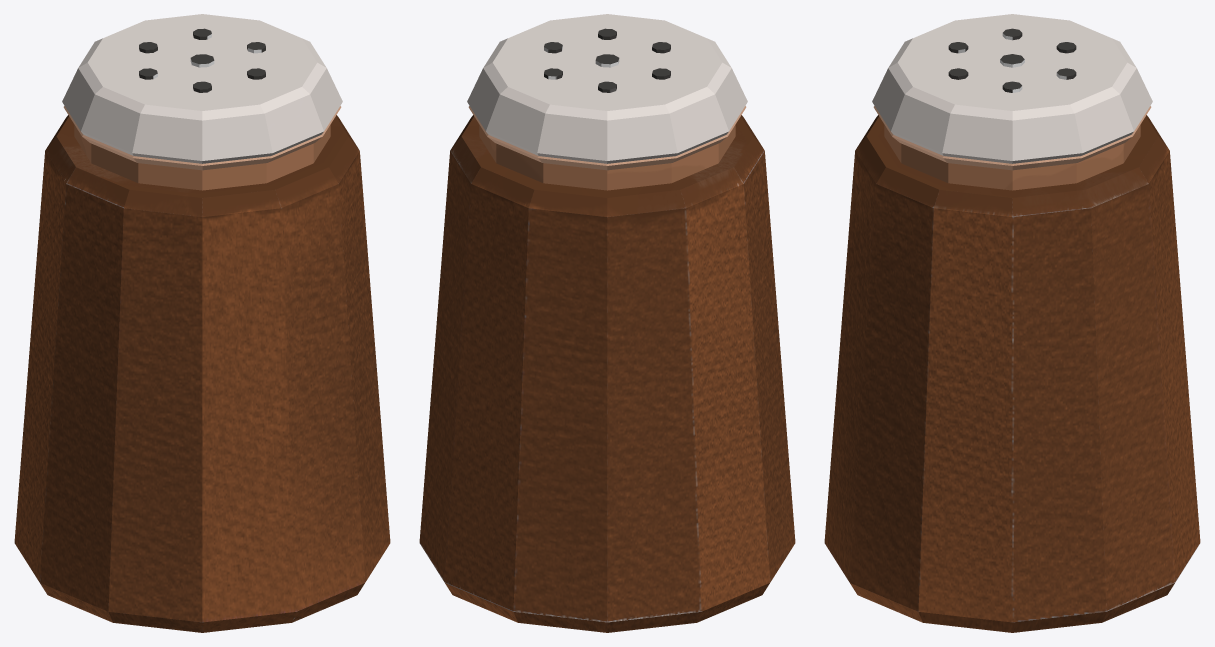
Rendered from salero .fbx.
3 views of the same model, side by side, from view 1: azimuth 30°, elevation 25°; view 2: azimuth 150°, elevation 25°; view 3: azimuth 270°, elevation 25° (orthographic).
Parts seen in each view (by area): view 1: cuerpo, SALERO_Tapa, cuello del salero, borde de la tapa; view 2: cuerpo, SALERO_Tapa, cuello del salero, borde de la tapa; view 3: cuerpo, SALERO_Tapa, cuello del salero, borde de la tapa.
Part boxes in pixels (x1,y1,x2,y2): cuerpo: [14, 115, 390, 632]; SALERO_Tapa: [62, 14, 342, 163]; cuello del salero: [74, 125, 330, 190]; borde de la tapa: [63, 106, 341, 170]; cuerpo: [419, 115, 795, 632]; SALERO_Tapa: [467, 14, 747, 163]; cuello del salero: [479, 125, 735, 190]; borde de la tapa: [468, 106, 746, 170]; cuerpo: [824, 115, 1200, 632]; SALERO_Tapa: [872, 14, 1152, 163]; cuello del salero: [884, 125, 1140, 190]; borde de la tapa: [873, 106, 1151, 170].
Bounding box in the file's own units: 229 × 334 × 229.
3 materials, 3 textured.
